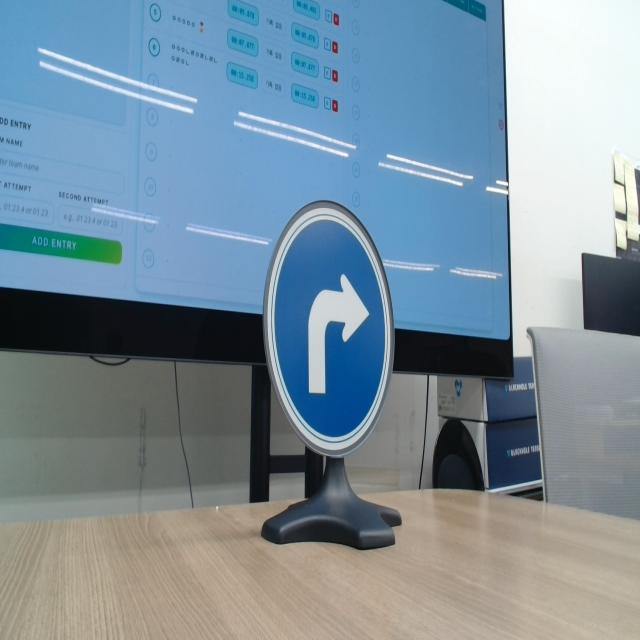right_dierection: (248, 193, 416, 488)
